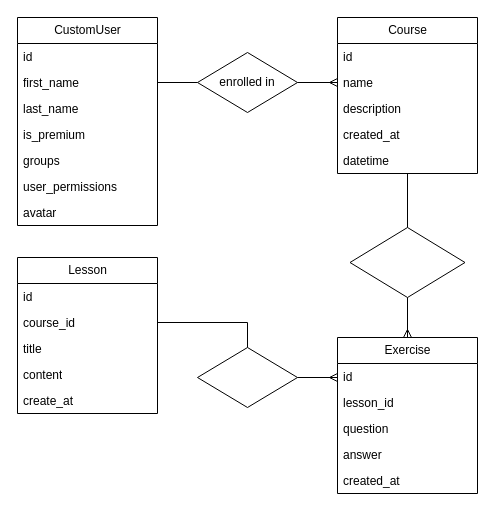
The diagram is 495 pixels wide and 514 high, and some of its shapes have lost their labels. The centre of each missing label's shape, as x and y in pixels:
"contains" belongs at (x=407, y=262).
"includes" belongs at (x=247, y=377).
